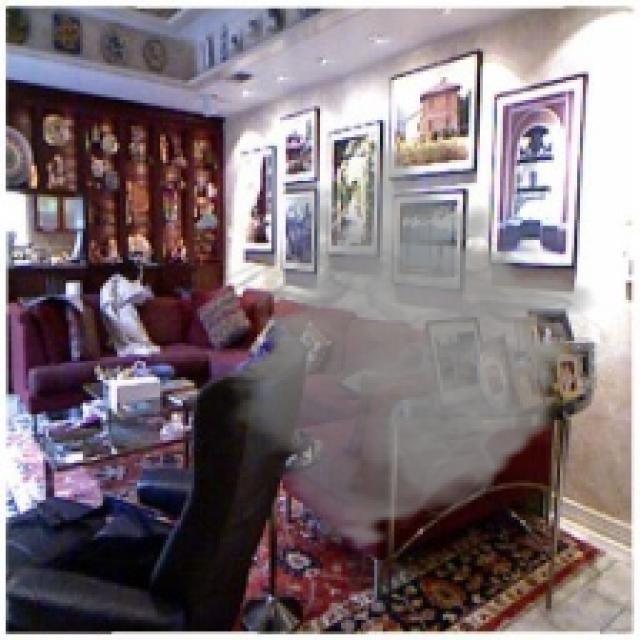smoke: (197, 143, 609, 551)
